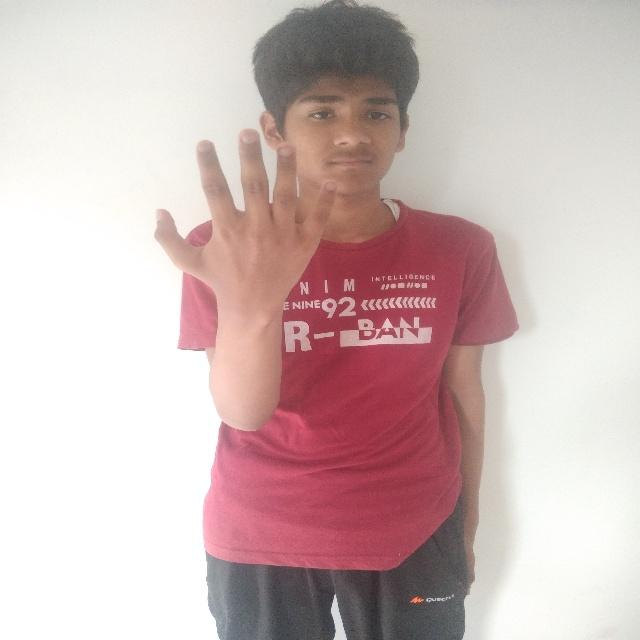Moutza: (152, 126, 342, 335)
